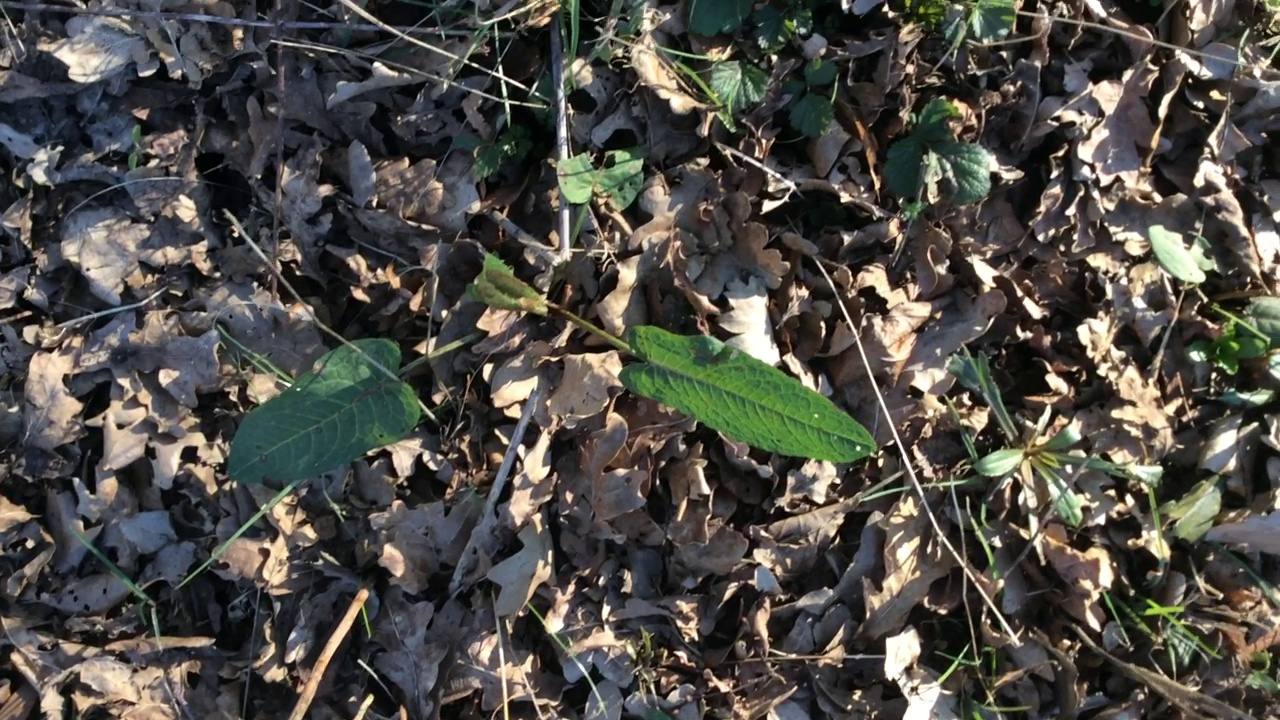rumex: (226, 151, 880, 482)
